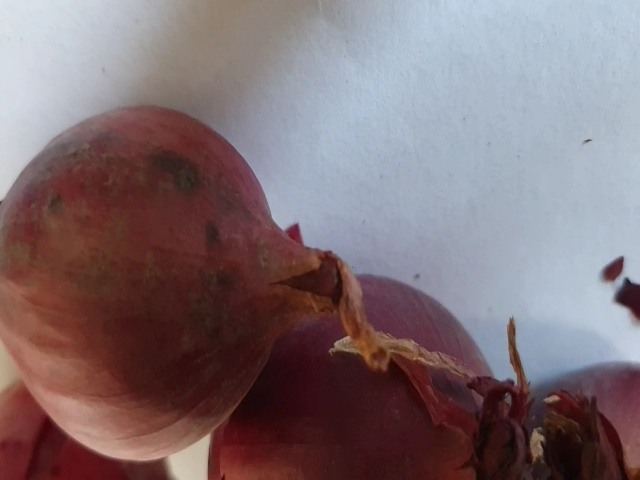red_onion: (1, 97, 361, 466), (248, 285, 536, 480), (513, 351, 639, 480)
